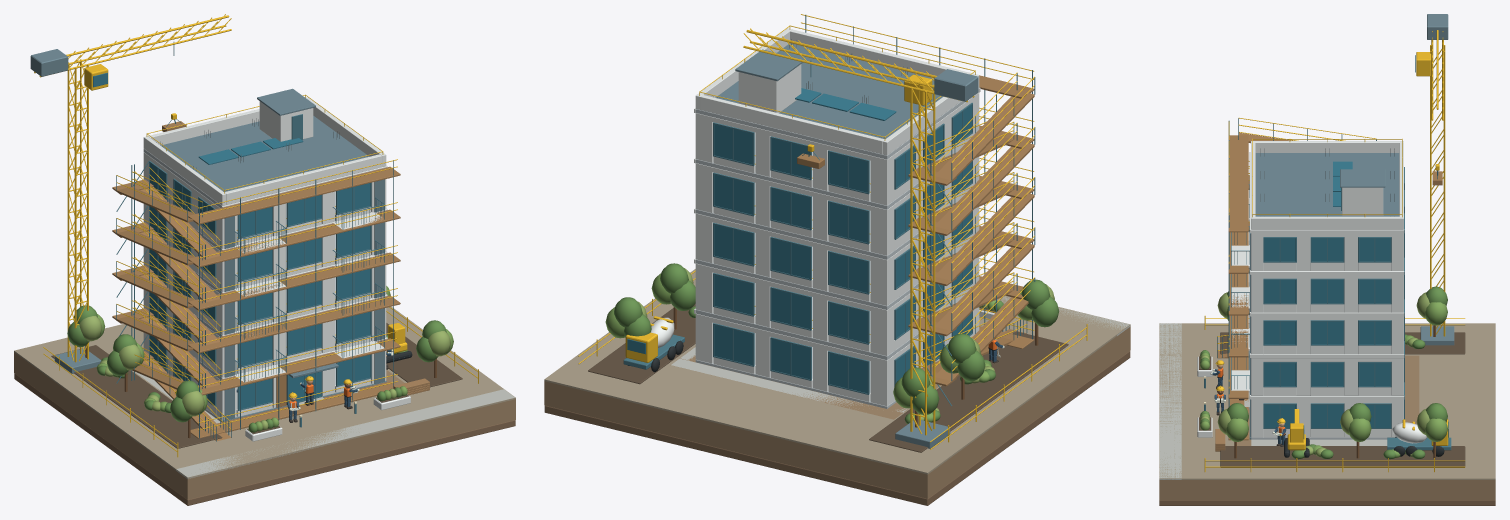
File: building.glb
3 renders of one model, left to right at view 1: azimuth 30°, elevation 25°; view 2: azimuth 150°, elevation 25°; view 3: azimuth 270°, elevation 25°, orthographic. The views are drawn at different scales.
Parts seen in each view (by area): view 1: Roof_Membrane, Site_Surface_West, Soil_Cut_West, Site_Surface_South, Soil_Cut_South, Crane_Tower_Body_Details, Garden_Bed_-8.8, Terrain_Base, Walls_L05_Body_Details, Access_Deck_05_Body_Details, Front_Sidewalk, Access_Deck_03_Body_Details (+50 smaller); view 2: Site_Surface_North, Site_Surface_West, Soil_Cut_West, Roof_Membrane, Walls_L05_Body_Details, Walls_L03_Body_Details, Walls_L02_Body_Details, Walls_L04_Body_Details, Walls_L01_Body_Details, Soil_Cut_North, Crane_Tower_Body_Details, Garden_Bed_-8.8 (+50 smaller); view 3: Roof_Membrane, Soil_Cut_East, Site_Surface_North, Site_Surface_East, Walls_L03_Body_Details, Garden_Bed_8.8, Site_Surface_South, Walls_L05_Body_Details, Walls_L02_Body_Details, Walls_L04_Body_Details, Front_Sidewalk, Site_Surface_West (+46 smaller).
Boxes of the visible parts, x1,y1,x2,y2 form: Roof_Membrane: (160, 116, 369, 191); Site_Surface_West: (14, 337, 255, 478); Soil_Cut_West: (14, 352, 255, 499); Site_Surface_South: (226, 393, 447, 462); Soil_Cut_South: (256, 416, 447, 482); Crane_Tower_Body_Details: (67, 59, 88, 362); Garden_Bed_-8.8: (51, 345, 222, 448); Terrain_Base: (14, 373, 515, 505); Walls_L05_Body_Details: (143, 152, 387, 248); Access_Deck_05_Body_Details: (188, 159, 400, 421); Front_Sidewalk: (176, 389, 514, 478); Access_Deck_03_Body_Details: (188, 245, 400, 428); Site_Surface_North: (624, 365, 893, 454); Site_Surface_West: (848, 306, 1130, 474); Soil_Cut_West: (848, 326, 1130, 498); Roof_Membrane: (715, 43, 942, 138); Walls_L05_Body_Details: (694, 87, 980, 205); Walls_L03_Body_Details: (694, 207, 979, 305); Walls_L02_Body_Details: (694, 257, 979, 355); Walls_L04_Body_Details: (694, 157, 979, 255); Walls_L01_Body_Details: (694, 307, 979, 406); Soil_Cut_North: (624, 400, 847, 479); Crane_Tower_Body_Details: (910, 81, 935, 435); Garden_Bed_-8.8: (869, 331, 1068, 452); Roof_Membrane: (1255, 153, 1399, 216); Soil_Cut_East: (1159, 480, 1495, 499); Site_Surface_North: (1419, 355, 1495, 446); Site_Surface_East: (1159, 446, 1495, 479); Walls_L03_Body_Details: (1249, 275, 1404, 354); Garden_Bed_8.8: (1220, 446, 1465, 467); Site_Surface_South: (1159, 355, 1234, 446); Walls_L05_Body_Details: (1249, 152, 1404, 270); Walls_L02_Body_Details: (1249, 316, 1404, 395); Walls_L04_Body_Details: (1249, 233, 1404, 312); Front_Sidewalk: (1159, 323, 1181, 479); Site_Surface_West: (1159, 323, 1495, 355).
Size of the model in its own units: 24.6 by 24.05 by 22.
